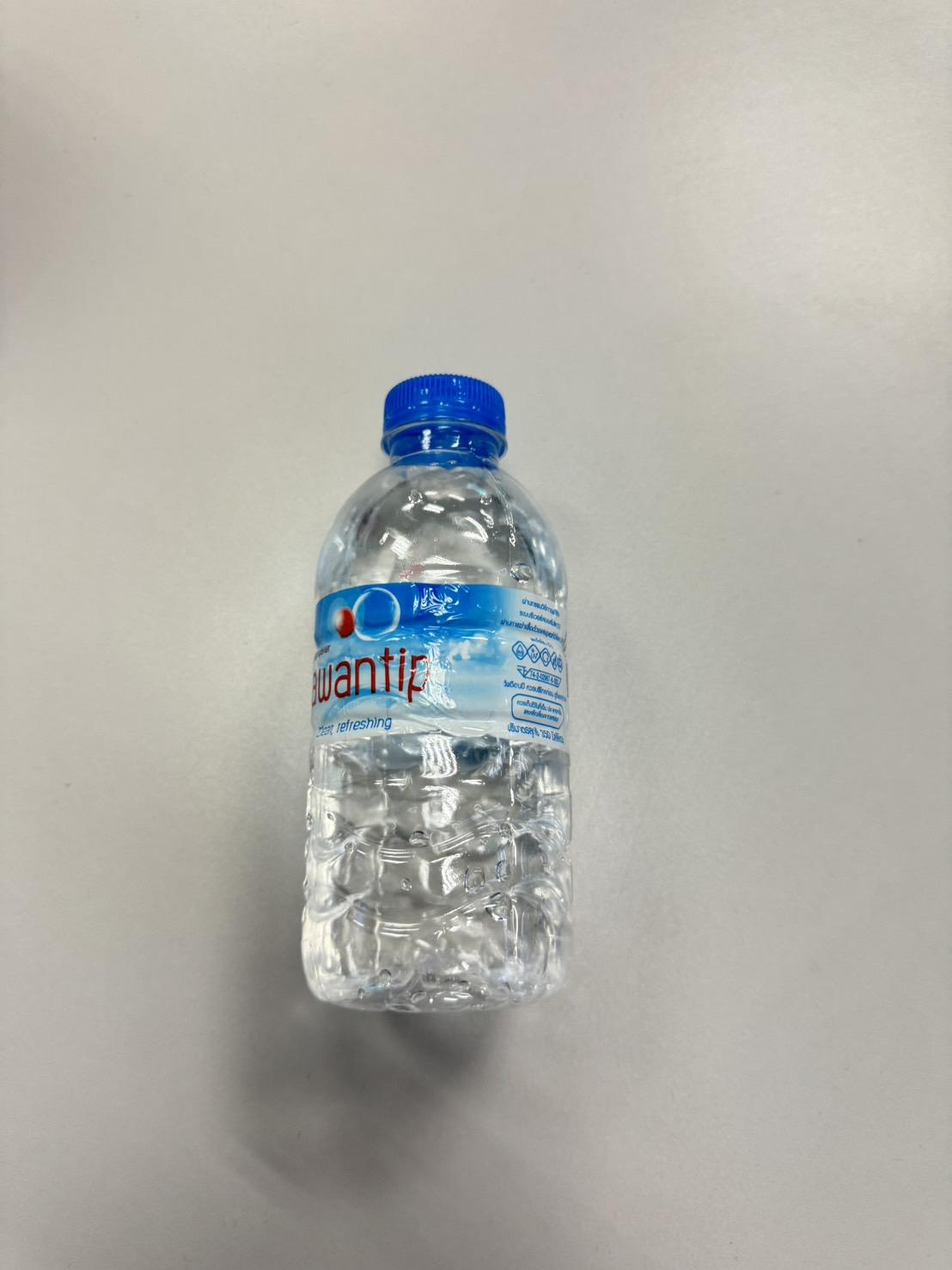Bottle: (309, 364, 571, 1022), (302, 376, 571, 1012)
